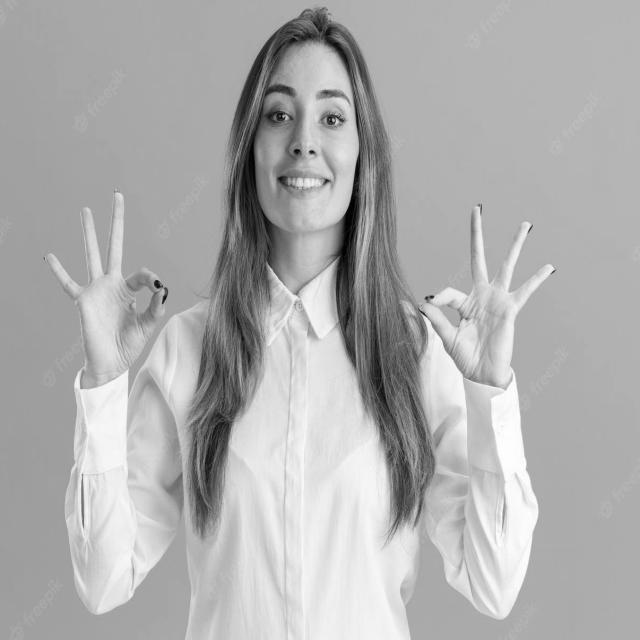perfect: (412, 197, 560, 404), (38, 181, 174, 390)
